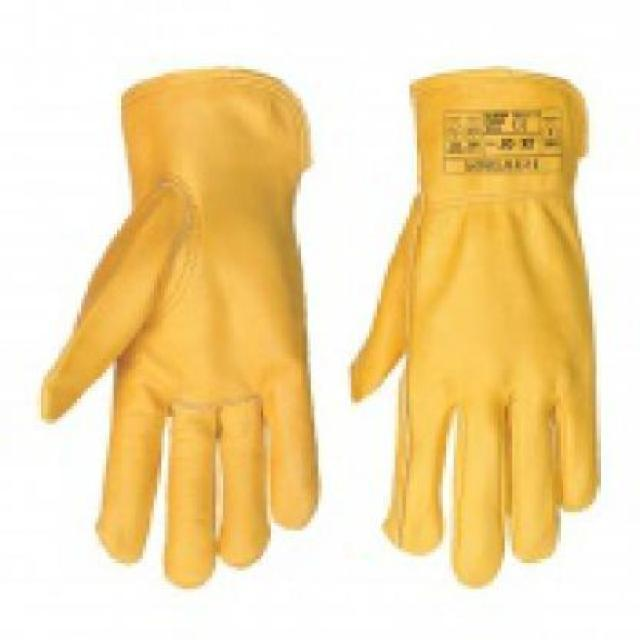gloved_hand: (29, 61, 346, 597), (356, 60, 601, 591)
